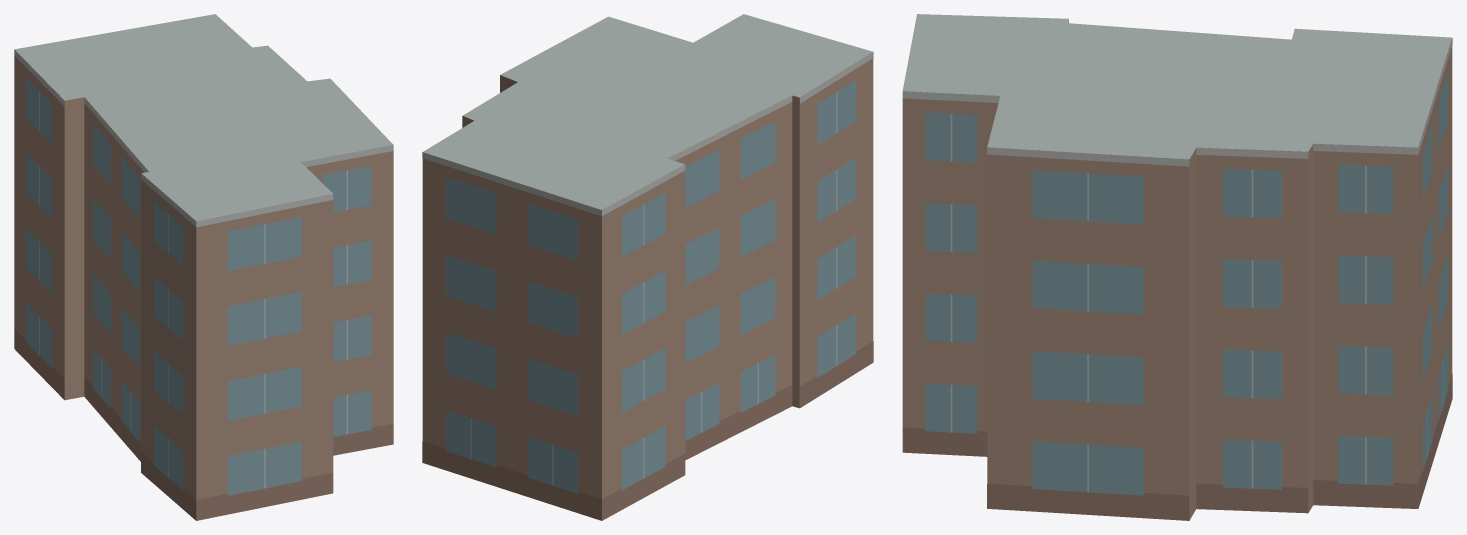
The model's file is survey-upis-32594625.glb.
The picture shows the model from 3 angles, left to right: view 1: azimuth 30°, elevation 25°; view 2: azimuth 150°, elevation 25°; view 3: azimuth 270°, elevation 25°; orthographic projection. The views are drawn at different scales.
Parts seen in each view (by area): view 1: survey-upis-32594625.tmp; view 2: survey-upis-32594625.tmp; view 3: survey-upis-32594625.tmp.
Boxes of the visible parts, x1=… form: survey-upis-32594625.tmp: x1=14, y1=14, x2=393, y2=520; survey-upis-32594625.tmp: x1=422, y1=14, x2=873, y2=520; survey-upis-32594625.tmp: x1=902, y1=14, x2=1452, y2=520.
Size of the model in its own units: 10.54 by 12.2 by 16.83.
